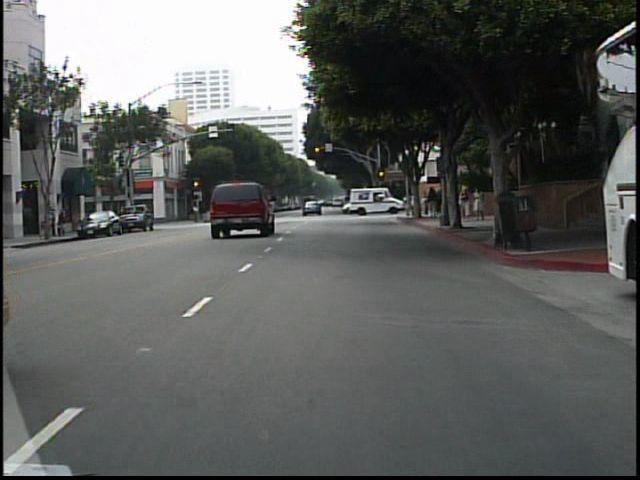person: (472, 181, 486, 223), (458, 183, 470, 222)
